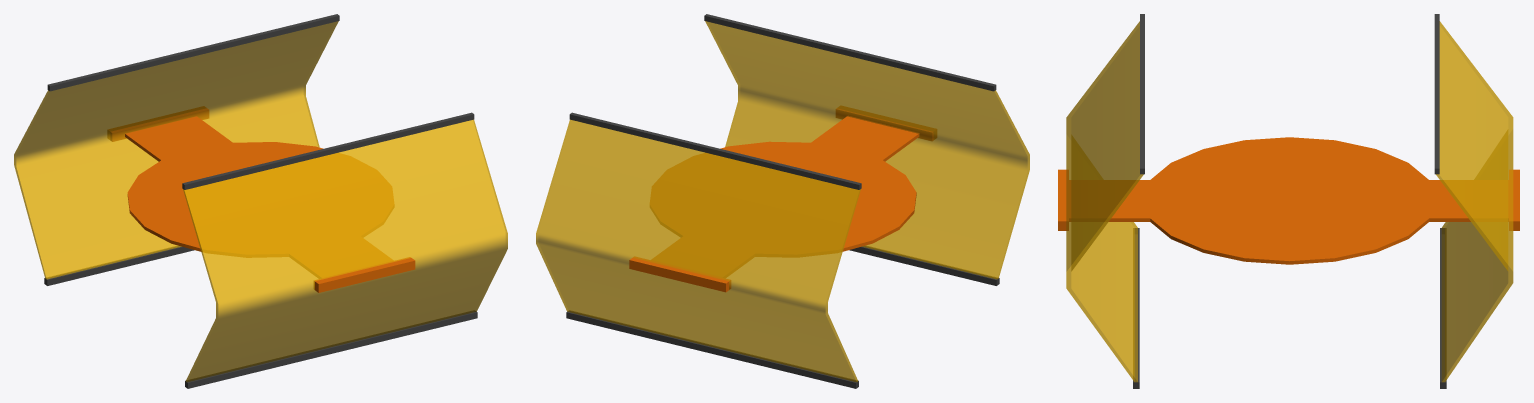
The model's file is Square_Char_Shield.fbx.
3 views of the same model, side by side, from view 1: azimuth 30°, elevation 25°; view 2: azimuth 150°, elevation 25°; view 3: azimuth 270°, elevation 25° (orthographic). The views are drawn at different scales.
Parts seen in each view (by area): view 1: pCylinder2; view 2: pCylinder2; view 3: pCylinder2.
Boxes of the visible parts, box(x1,y1,x2,y2) form: pCylinder2: box(14, 14, 507, 388); pCylinder2: box(536, 14, 1029, 388); pCylinder2: box(1058, 14, 1519, 388).
Size of the model in its own units: 3.18 by 2.12 by 4.02.
